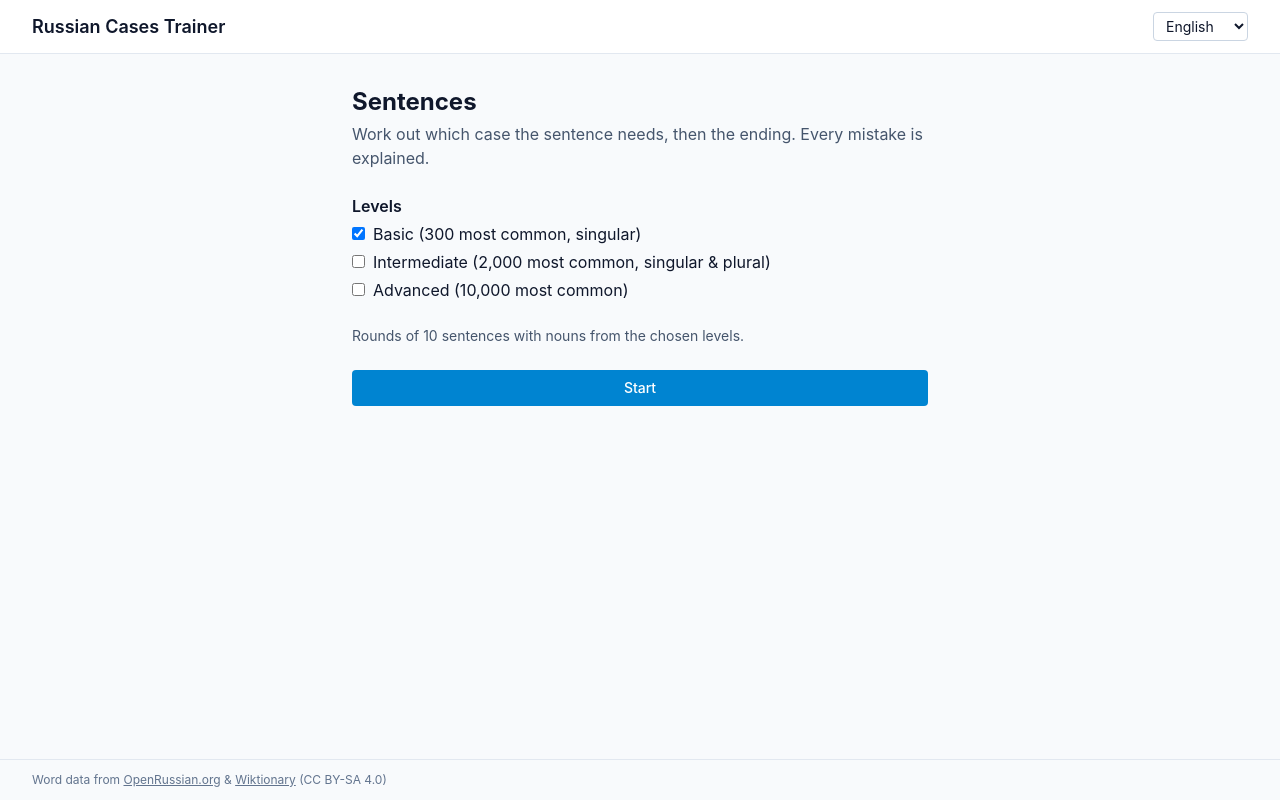
Test: only noun levels are offered, basic by default
Click the button "Start" at (640, 388), box [352, 370, 928, 406]
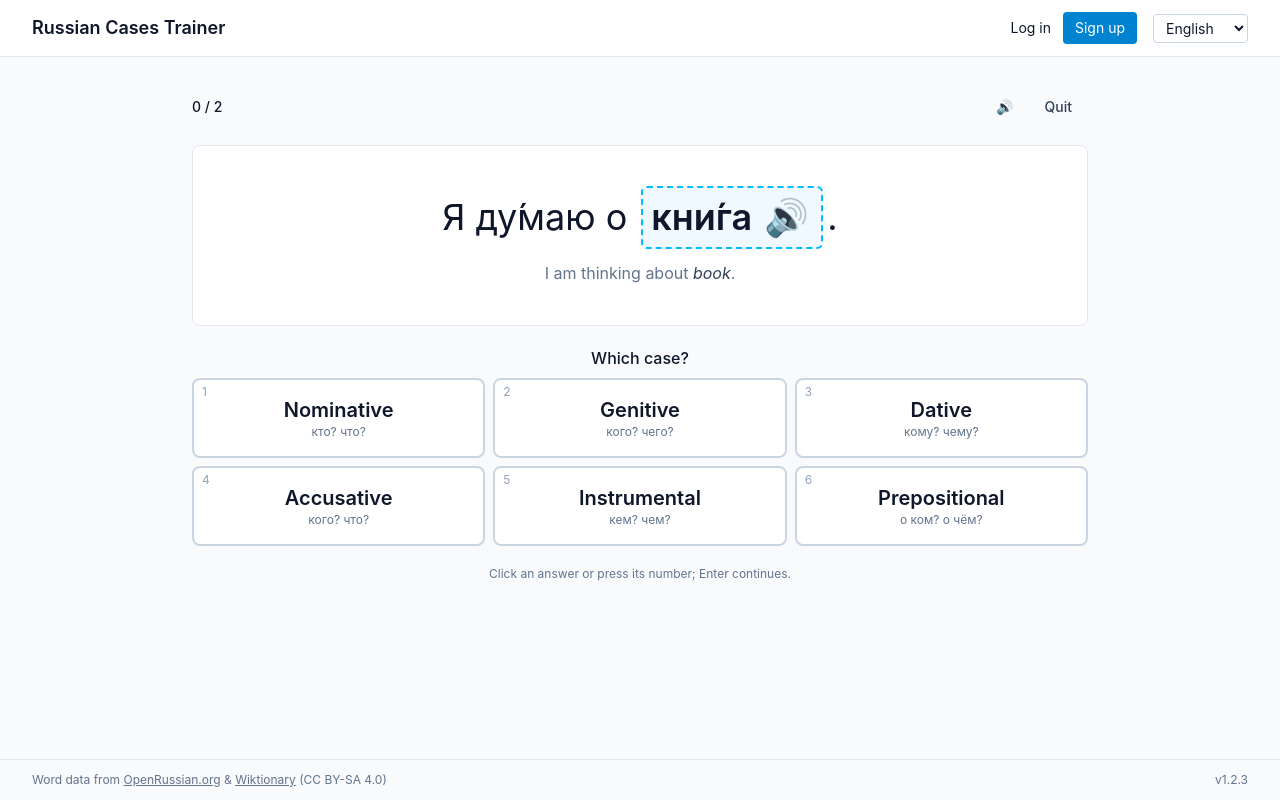
Check: the text "кни́га" is shown, box [651, 188, 752, 246]
